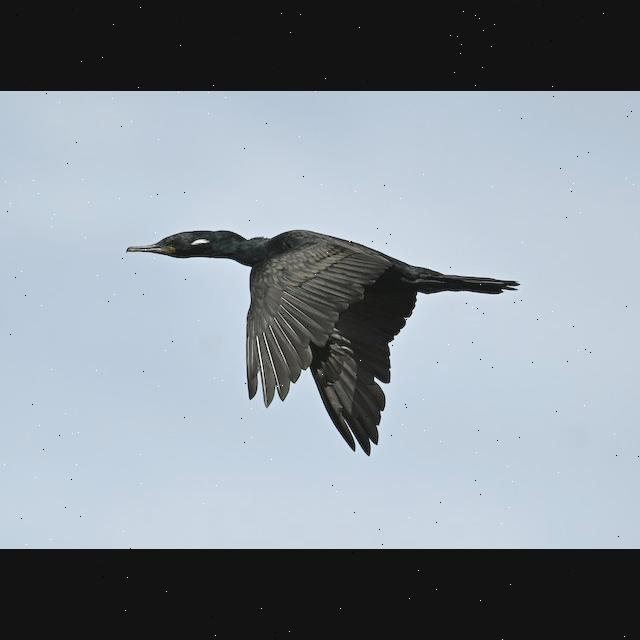cormorant: (114, 224, 532, 461)
